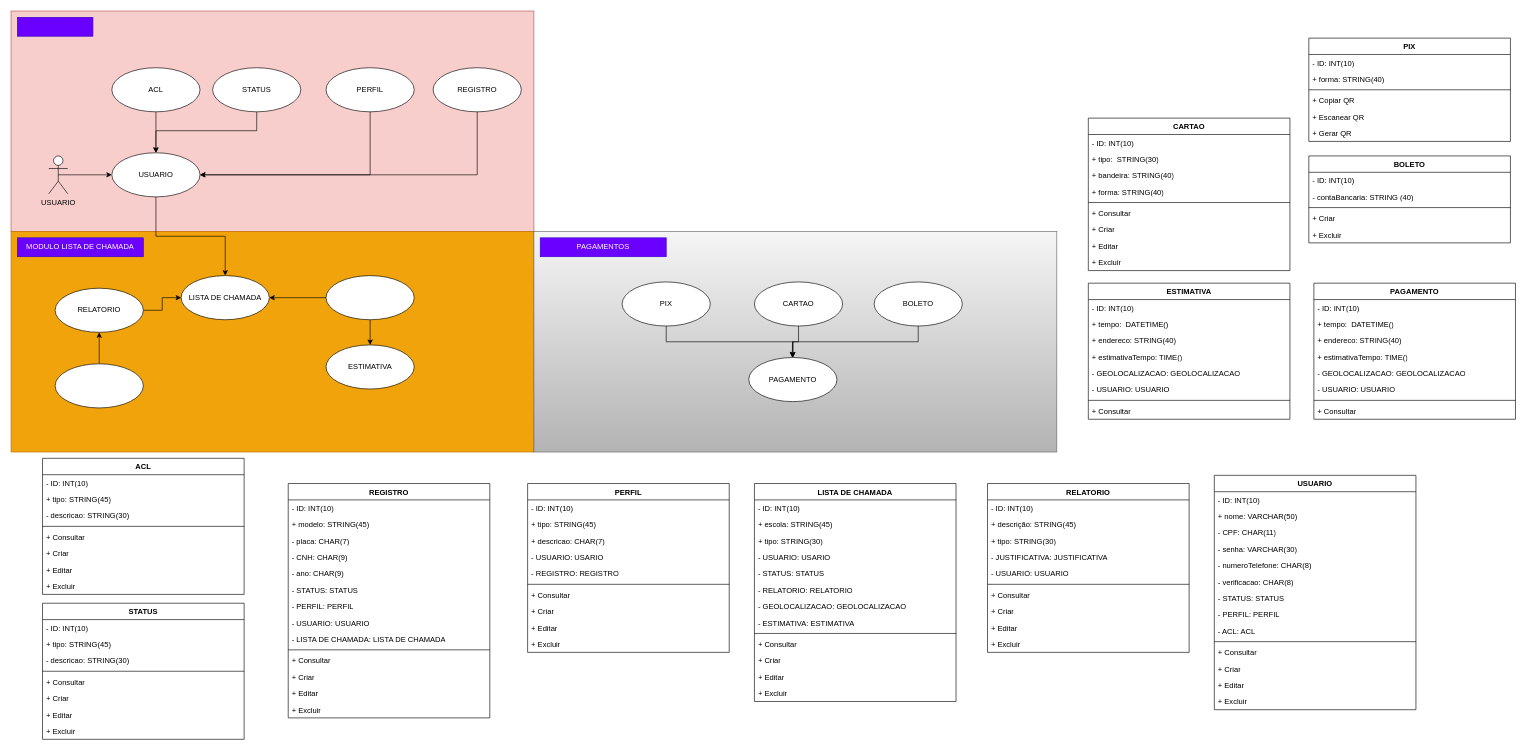
Image size: 1526x752. Some labels were removed from this diagram. Each missing label, with the centre of its shape:
GEOLOCALIZACAO: the point at 369,297
JUSTIFICATIVA: the point at 98,385
MODULO USUÀRIO: the point at 55,26
